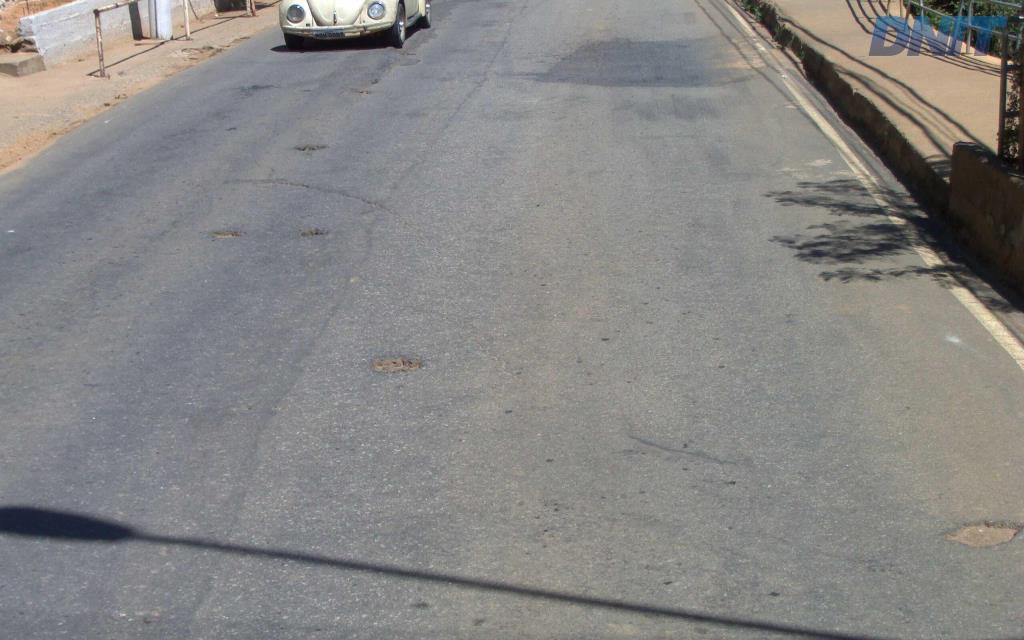pothole: (936, 512, 1022, 553), (368, 346, 426, 380)
